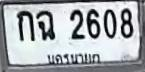0: (103, 8, 116, 38)
2: (70, 8, 84, 38)
6: (86, 8, 99, 38)
8: (120, 7, 132, 38)
A01: (16, 9, 34, 40)
A09: (36, 10, 54, 40)
NYK: (45, 50, 103, 66)
